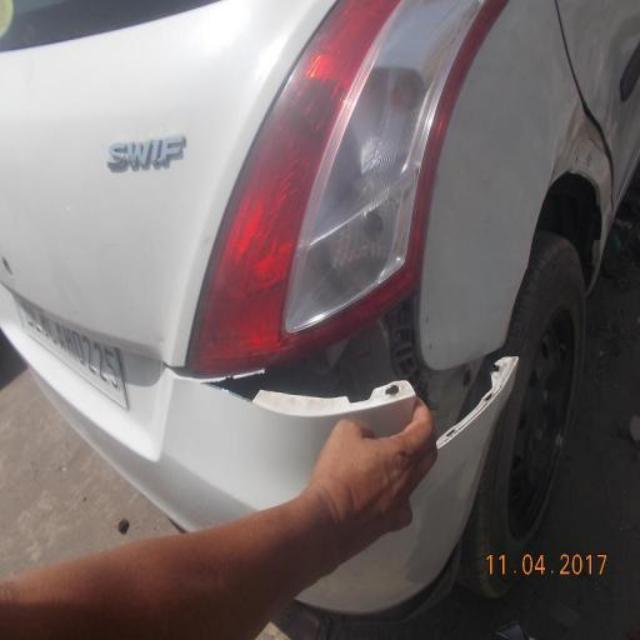dent: (548, 99, 616, 296)
dislocated part: (209, 287, 525, 448)
rub: (577, 8, 638, 206)
